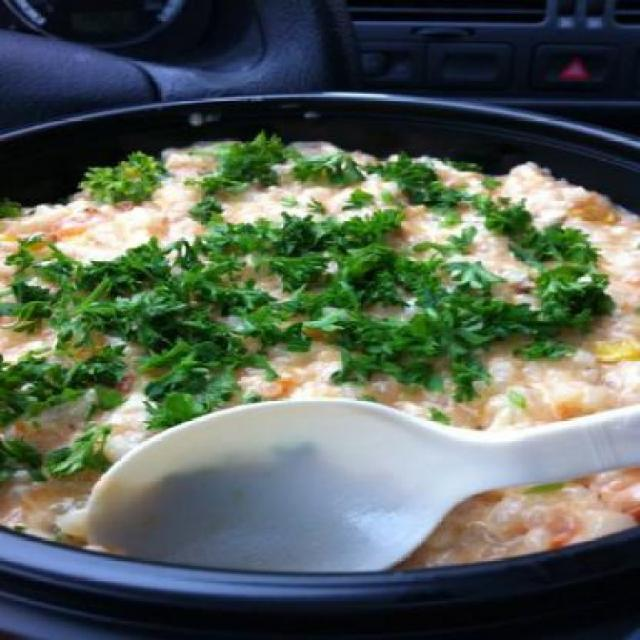Risotto: (14, 132, 638, 530)
